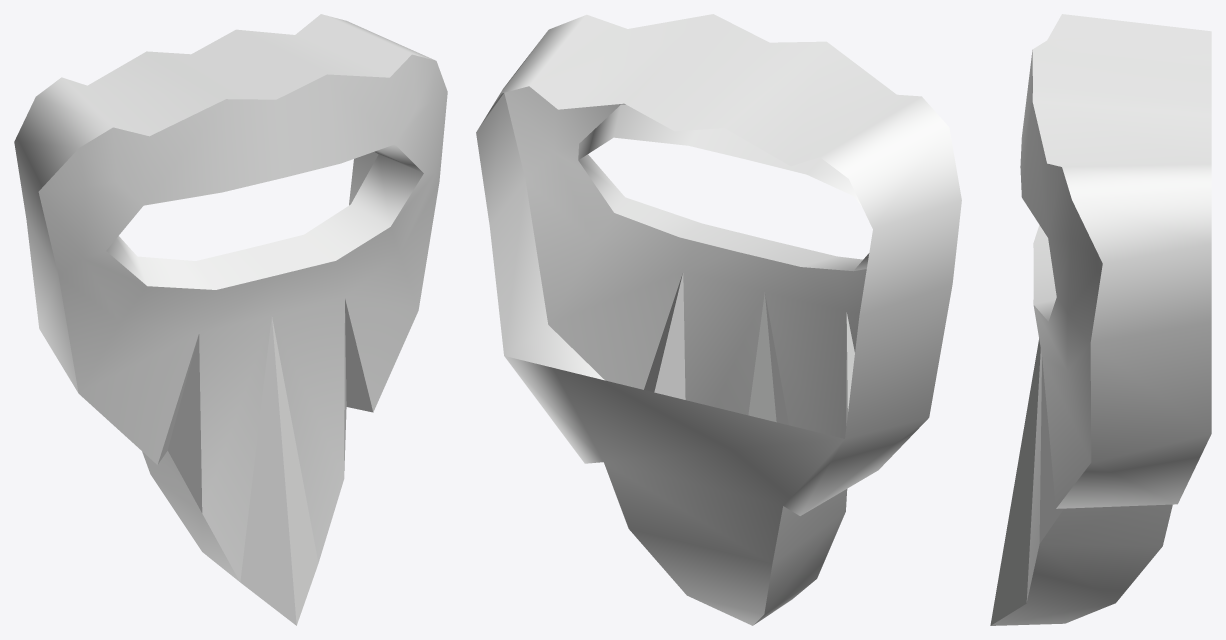
Rendered from Hair_26_C02.fbx.
3 views of the same model, side by side, from view 1: azimuth 30°, elevation 25°; view 2: azimuth 150°, elevation 25°; view 3: azimuth 270°, elevation 25° (orthographic). The views are drawn at different scales.
Visible parts, largest first — view 1: Hair_26_C02; view 2: Hair_26_C02; view 3: Hair_26_C02.
Part boxes in pixels (x1,y1,x2,y2): Hair_26_C02: (14, 14, 447, 625); Hair_26_C02: (476, 14, 961, 625); Hair_26_C02: (990, 14, 1211, 625).
Bounding box in the file's own units: 35.54 × 43.52 × 15.85.
